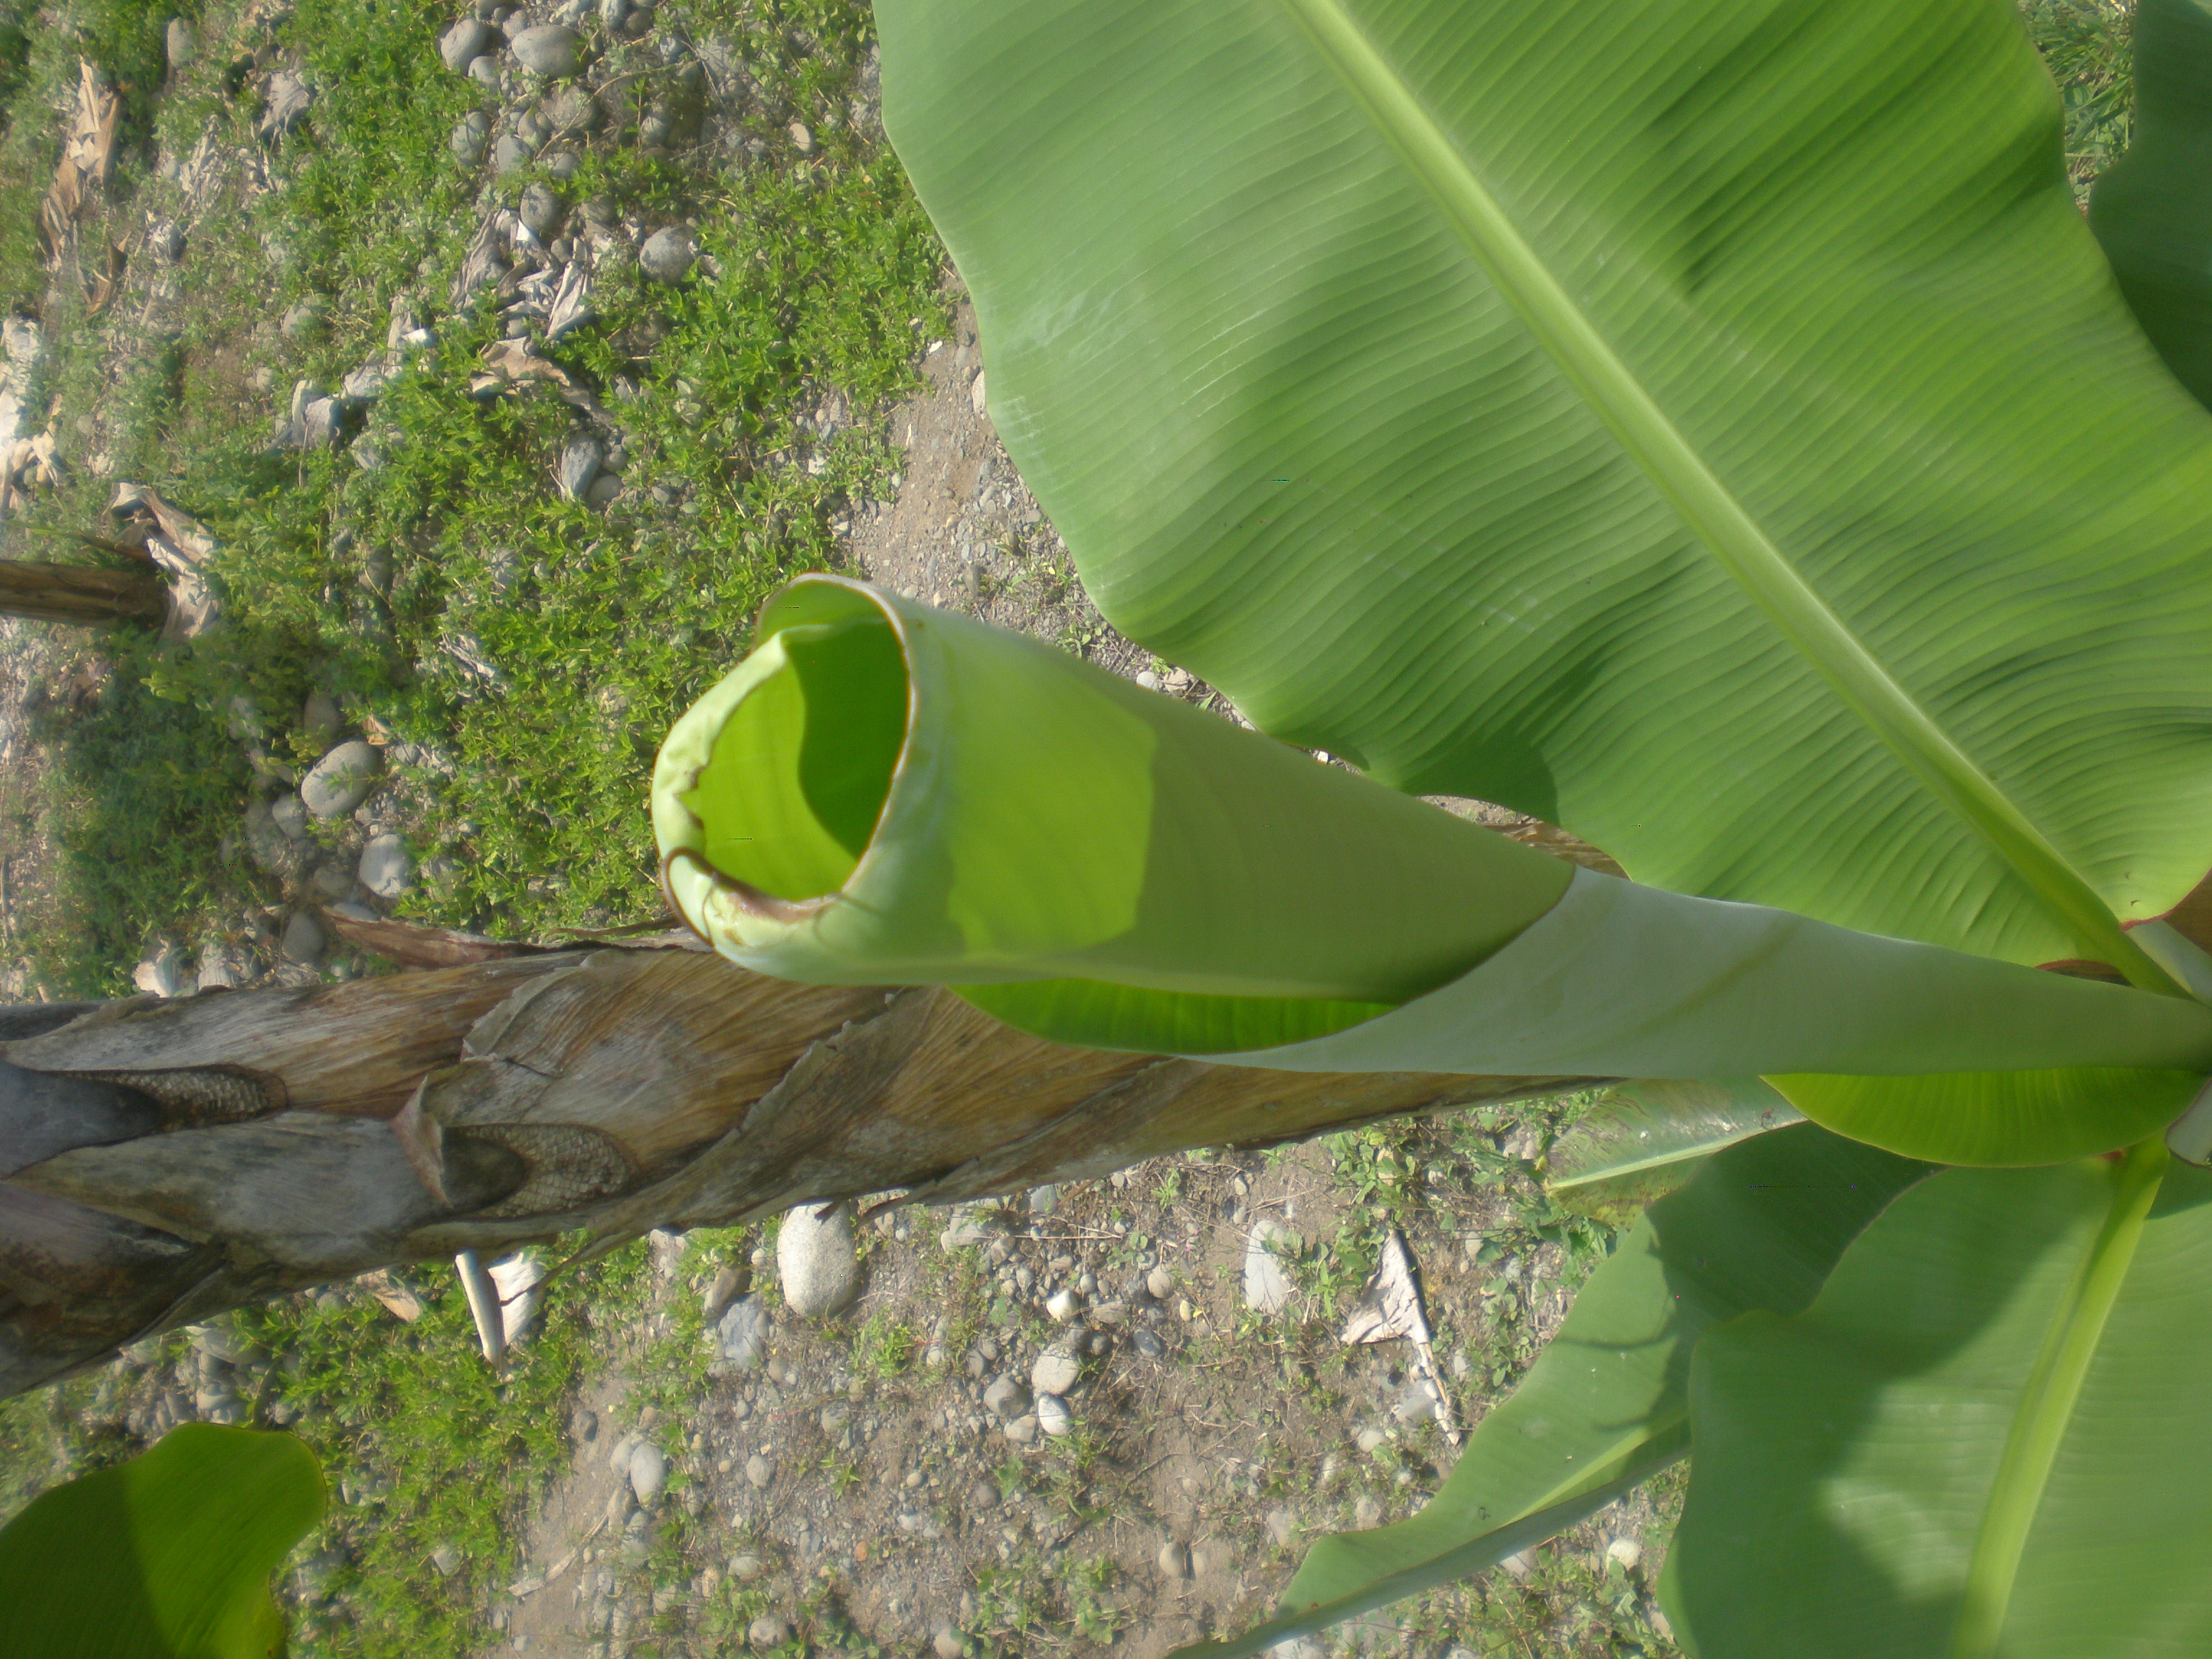candleleafs: (650, 561, 2188, 1098)
